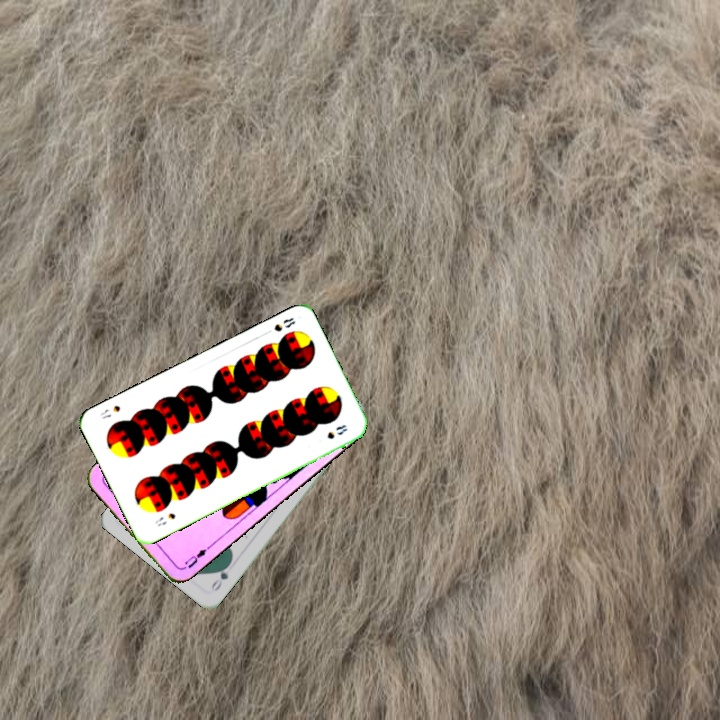EU: (178, 542, 212, 572)
GO: (207, 558, 234, 594)
S8: (270, 313, 298, 334), (151, 509, 178, 529)
